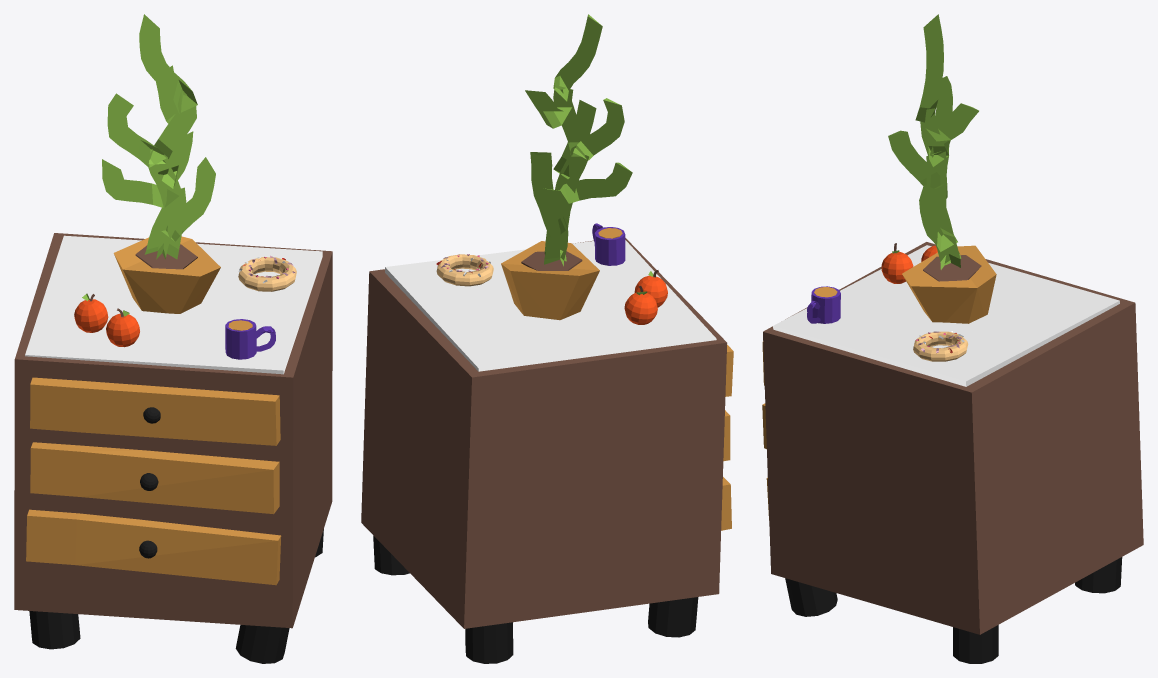
The model's file is breakfast-cactus.glb.
3 views of the same model, side by side, from view 1: azimuth 30°, elevation 25°; view 2: azimuth 150°, elevation 25°; view 3: azimuth 270°, elevation 25° (orthographic). The views are drawn at different scales.
Parts seen in each view (by area): view 1: Node; view 2: Node; view 3: Node.
Boxes of the visible parts, bbox=[...] form: Node: bbox=[14, 14, 332, 663]; Node: bbox=[361, 14, 733, 663]; Node: bbox=[762, 14, 1143, 663].
Bounding box in the file's own units: 1.28 × 2.14 × 1.29.
